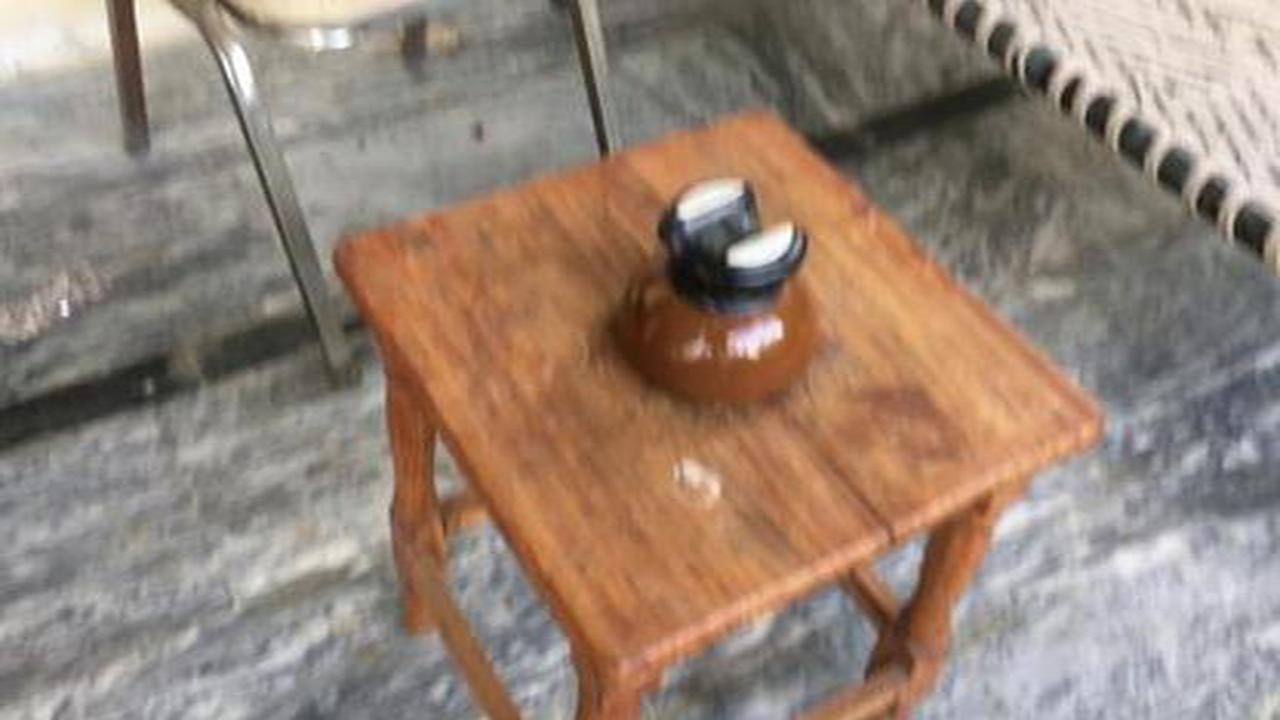insulator_pin: (591, 167, 828, 431)
